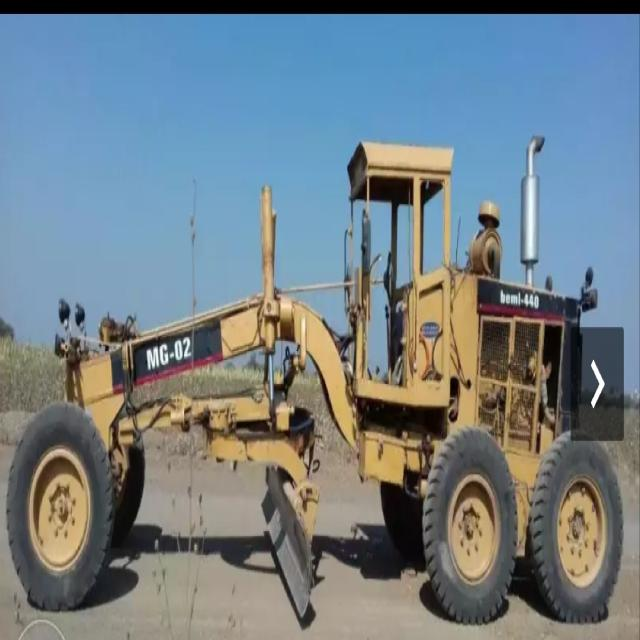buldozerpayloadergrader: (9, 123, 623, 617)
